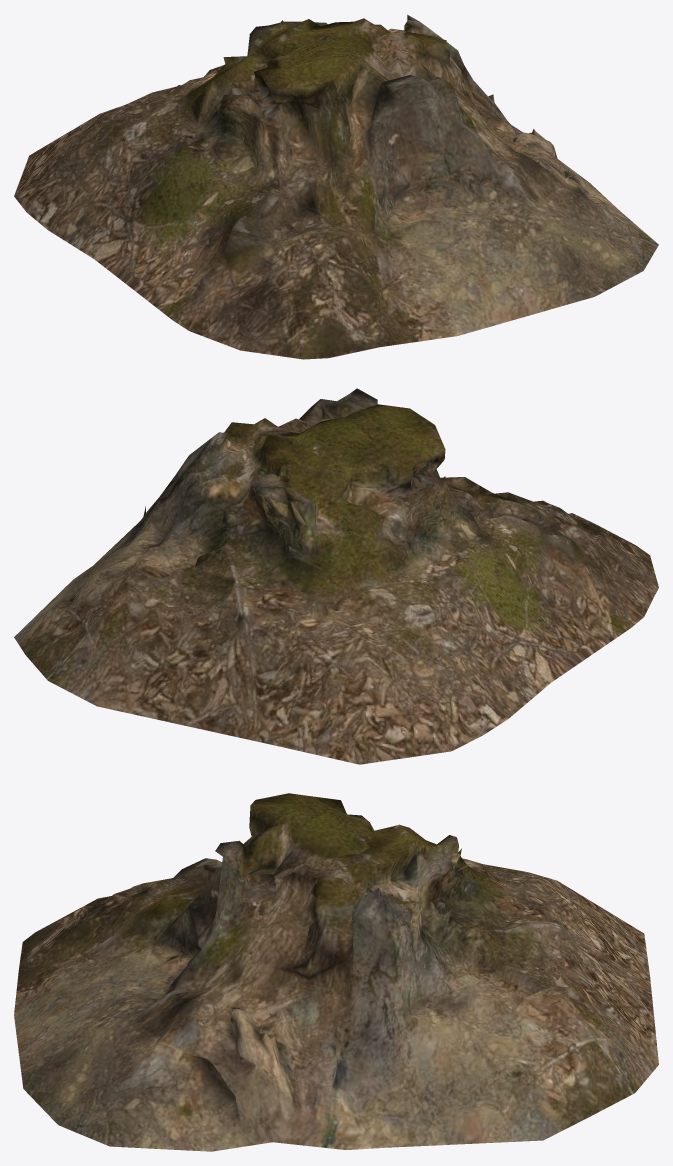
File: lg-p-stump.glb
3 renders of one model, top to bottom at view 1: azimuth 30°, elevation 25°; view 2: azimuth 150°, elevation 25°; view 3: azimuth 270°, elevation 25°, orthographic. The views are drawn at different scales.
Visible parts, largest first — view 1: tree_stump_01; view 2: tree_stump_01; view 3: tree_stump_01.
Part boxes in pixels (x1=…): tree_stump_01: x1=14, y1=14, x2=658, y2=359; tree_stump_01: x1=14, y1=388, x2=658, y2=764; tree_stump_01: x1=14, y1=793, x2=658, y2=1151.
Bounding box in the file's own units: 1.43 × 0.571 × 1.59.
1 material, 1 textured.
